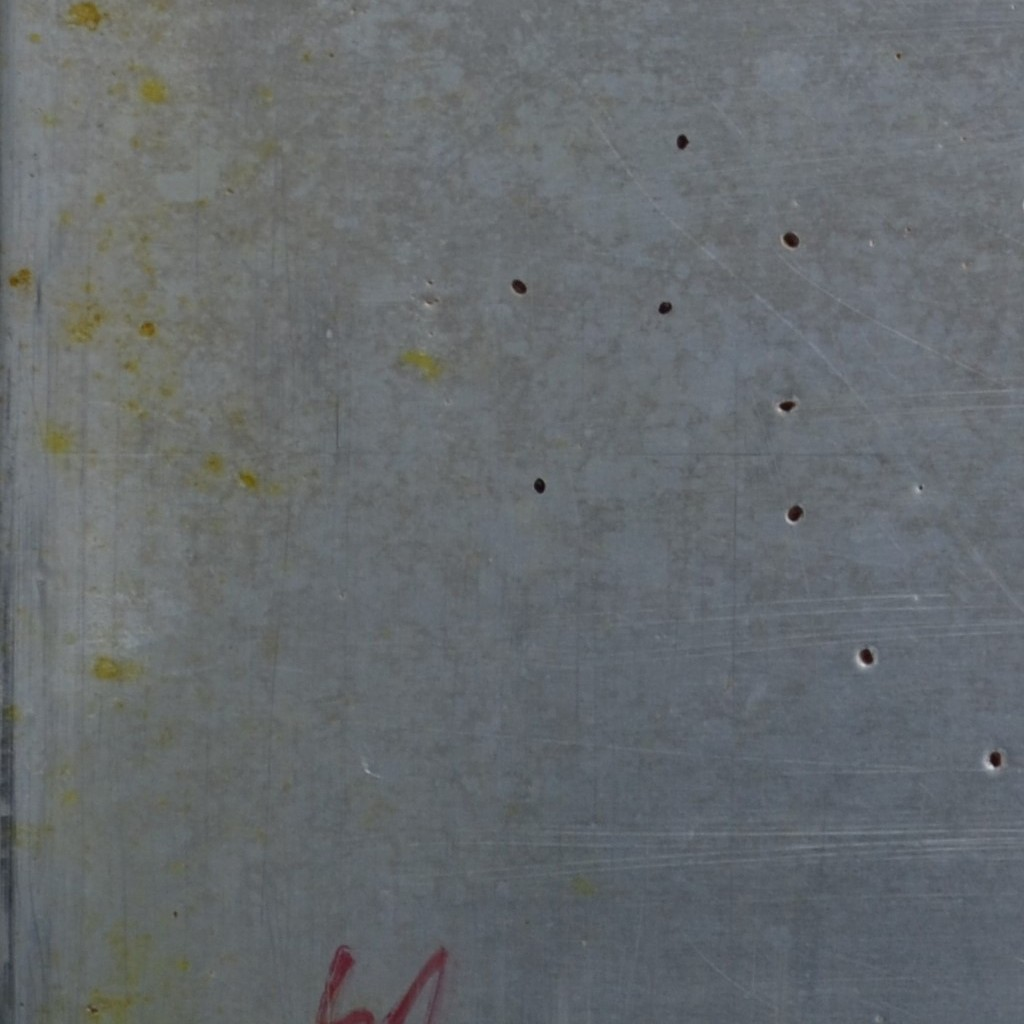varroa: (777, 225, 803, 250), (508, 275, 531, 298), (782, 502, 806, 524), (775, 394, 800, 414), (857, 642, 876, 668), (655, 295, 676, 318), (986, 746, 1005, 769), (673, 129, 691, 153), (530, 474, 549, 495)
